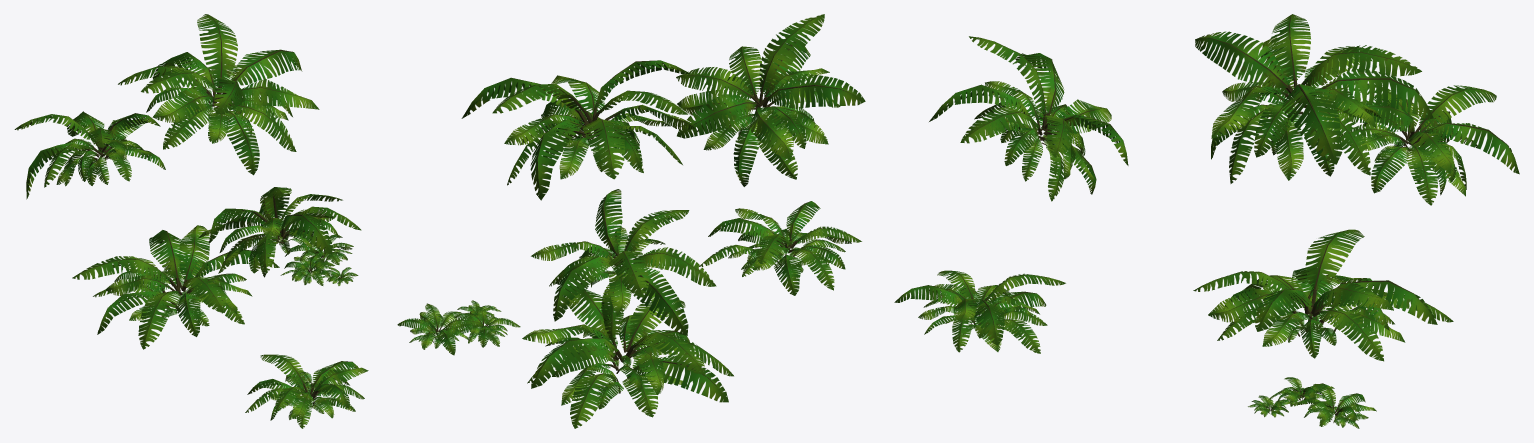
The model's file is mapraw.glb.
3 views of the same model, side by side, from view 1: azimuth 30°, elevation 25°; view 2: azimuth 150°, elevation 25°; view 3: azimuth 270°, elevation 25° (orthographic). The views are drawn at different scales.
Visible parts, largest first — view 1: trunk.001_leaf.001_0, leaf01.005_leaf.001_0, trunk.005, trunk.004_leaf.001_0, leaf01.000, trunk up.001_leaf.001_0, leaf01.004_leaf.001_0, leaf01.002_leaf.001_0; view 2: trunk.005, leaf01.005_leaf.001_0, trunk.001_leaf.001_0, trunk.004_leaf.001_0, leaf01.000, leaf01.004_leaf.001_0, trunk up.001_leaf.001_0; view 3: trunk.001_leaf.001_0, leaf01.005_leaf.001_0, trunk.005, trunk.004_leaf.001_0, leaf01.000, leaf01.004_leaf.001_0, trunk up.001_leaf.001_0.
Boxes of the visible parts, x1,y1,x2,y2 form: trunk.001_leaf.001_0: [118, 14, 319, 175]; leaf01.005_leaf.001_0: [72, 225, 279, 349]; trunk.005: [198, 187, 361, 277]; trunk.004_leaf.001_0: [14, 111, 165, 199]; leaf01.000: [245, 354, 368, 428]; trunk up.001_leaf.001_0: [280, 252, 334, 285]; leaf01.004_leaf.001_0: [285, 234, 353, 271]; leaf01.002_leaf.001_0: [322, 267, 358, 285]; trunk.005: [676, 14, 865, 186]; leaf01.005_leaf.001_0: [522, 285, 733, 428]; trunk.001_leaf.001_0: [461, 60, 695, 200]; trunk.004_leaf.001_0: [531, 189, 716, 342]; leaf01.000: [699, 201, 861, 295]; leaf01.004_leaf.001_0: [397, 303, 483, 355]; trunk up.001_leaf.001_0: [454, 305, 520, 347]; trunk.001_leaf.001_0: [1195, 14, 1433, 183]; leaf01.005_leaf.001_0: [1193, 229, 1453, 361]; trunk.005: [929, 36, 1128, 201]; trunk.004_leaf.001_0: [1331, 82, 1519, 205]; leaf01.000: [894, 270, 1065, 353]; leaf01.004_leaf.001_0: [1290, 384, 1376, 428]; trunk up.001_leaf.001_0: [1269, 377, 1334, 406].
Size of the model in its own units: 16.5 by 14.29 by 25.12.
Materials: 1 (1 with a texture image).
